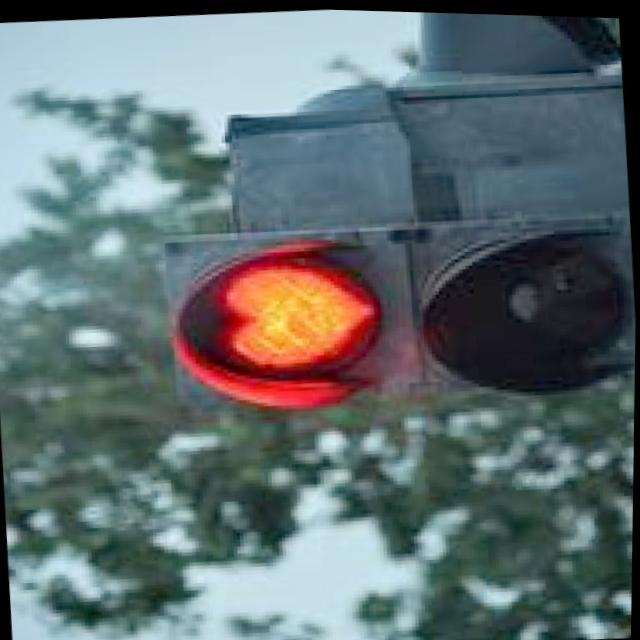red_light: (178, 204, 415, 464)
